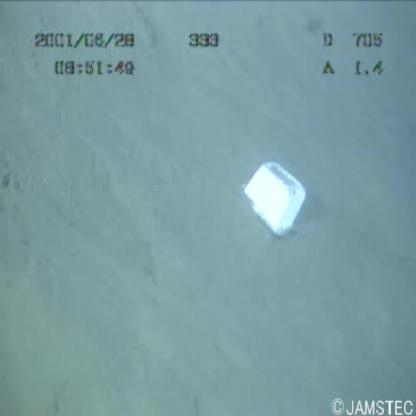Rác: (236, 149, 314, 239)
